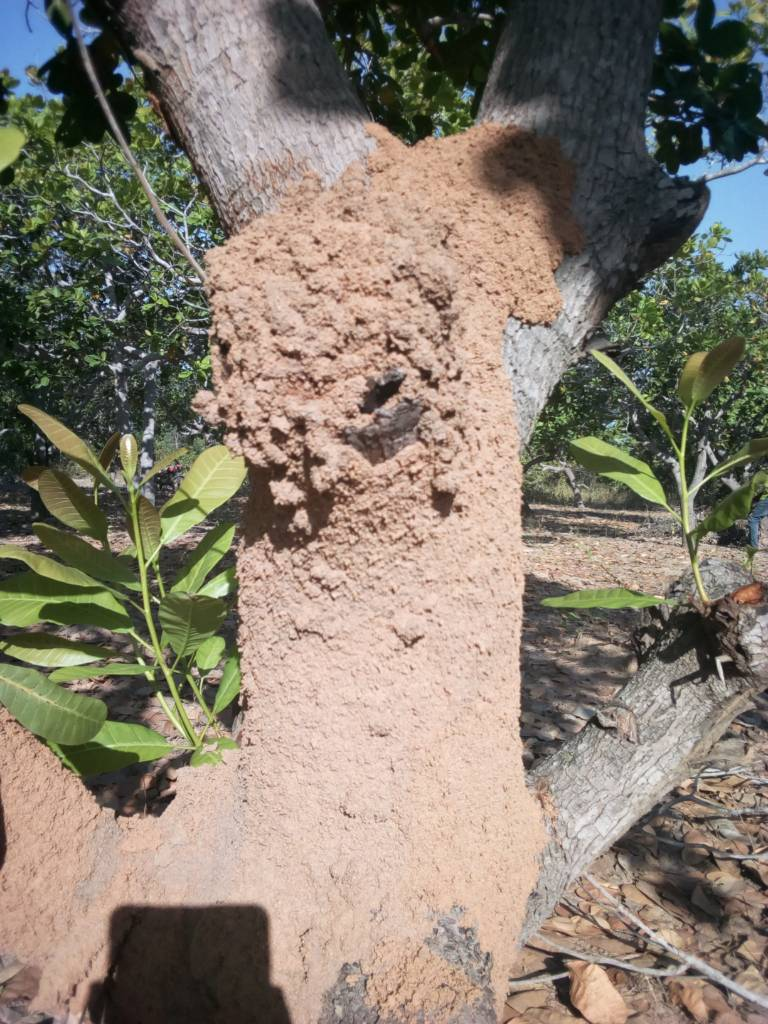Virose: (1, 135, 705, 1024)
